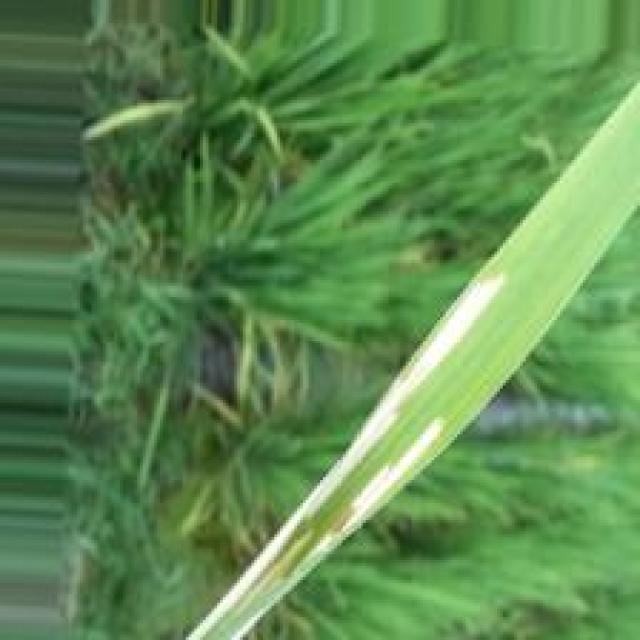Rice_Hispa: (180, 273, 512, 640)
